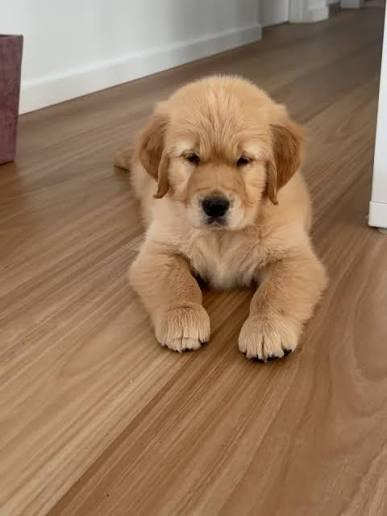puppy-dog: (112, 73, 330, 363)
